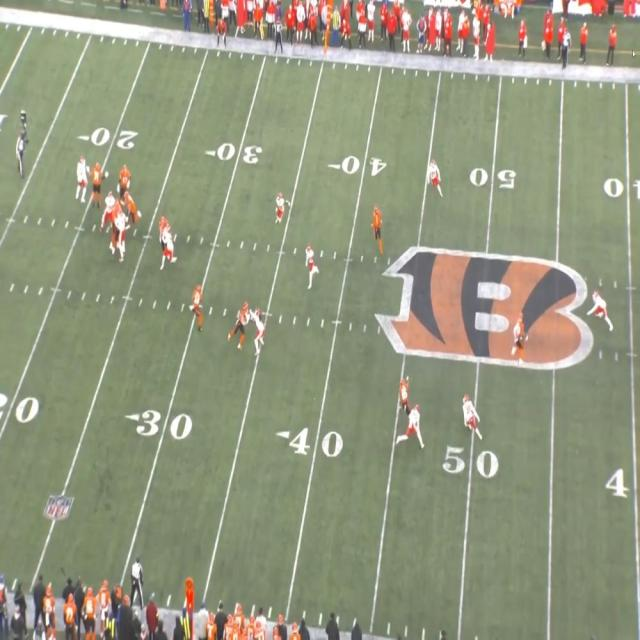db: (461, 394, 482, 438), (402, 402, 421, 447), (592, 288, 612, 330), (428, 161, 441, 195), (277, 193, 288, 226)
lb: (254, 313, 265, 353), (305, 247, 317, 283)
skill: (395, 378, 412, 426), (514, 316, 525, 359), (238, 304, 248, 346), (374, 207, 384, 248), (193, 286, 204, 318)
